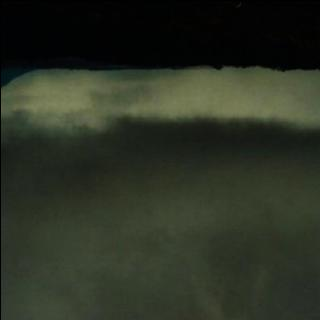Stratocumulus: (0, 53, 320, 320)
